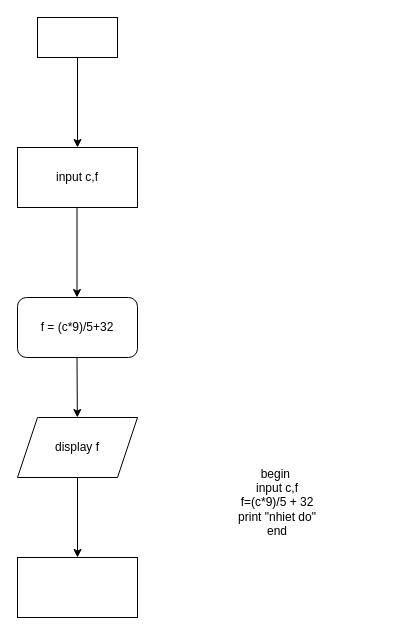
Some shapes in this 405 by 635 pixel diagram are drawn without their labels. Each missing label, with the box of its shape:
START: (36, 16, 118, 58)
STOP: (16, 556, 138, 618)
